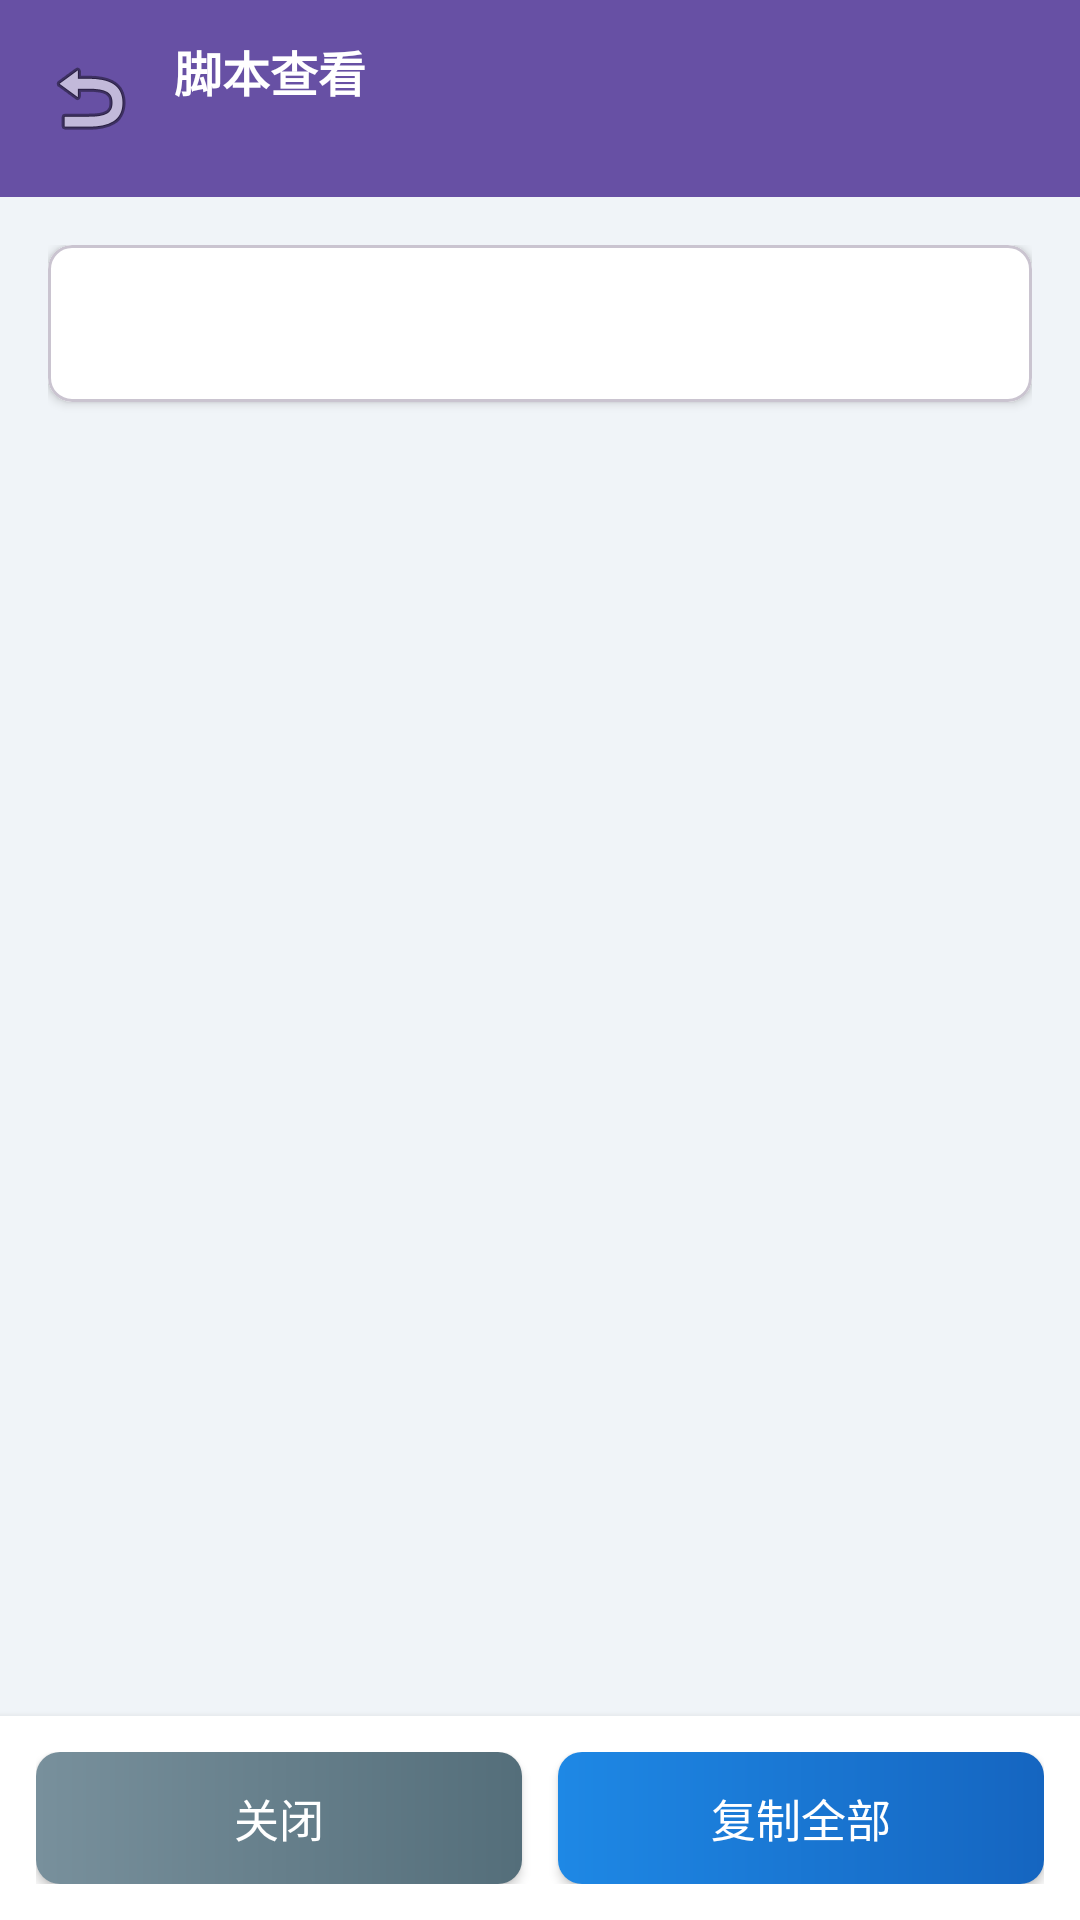

Named icons in this screenshot (1080*1920) and their centers, [x,y]:
返回: [91,98]
